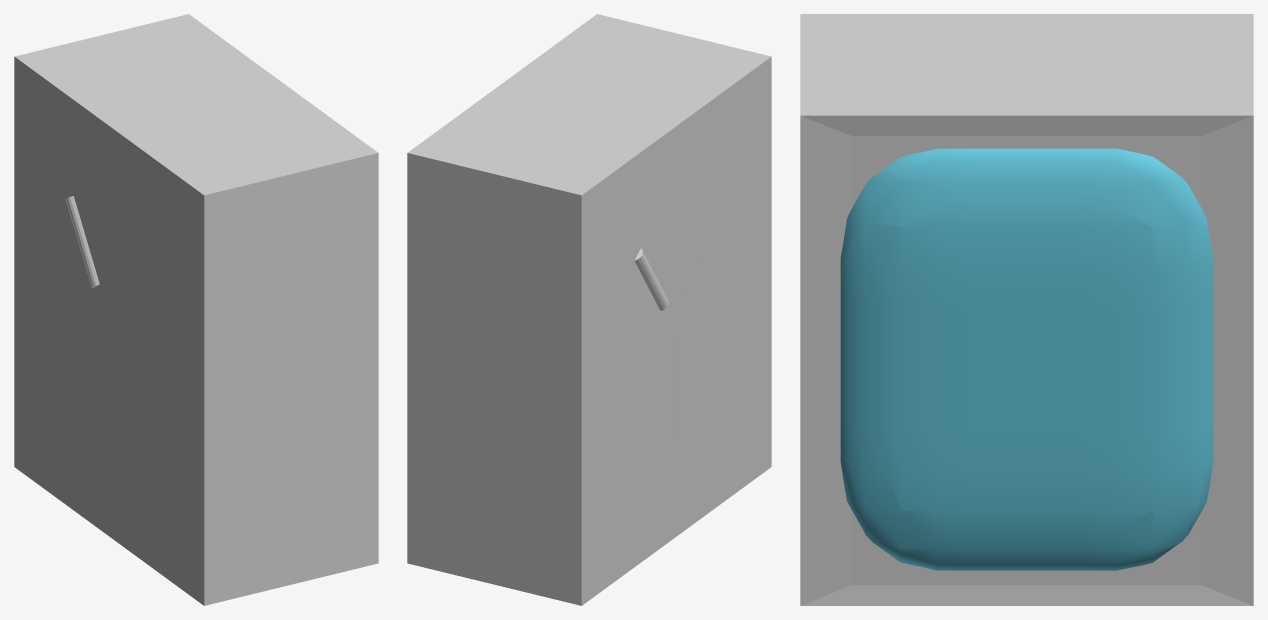
The model's file is fluxCapacitor.fbx.
3 views of the same model, side by side, from view 1: azimuth 30°, elevation 25°; view 2: azimuth 150°, elevation 25°; view 3: azimuth 270°, elevation 25° (orthographic). The views are drawn at different scales.
Visible parts, largest first — view 1: Cube, Cylinder.001; view 2: Cube, Cylinder.001; view 3: Mball, Cube.
Part boxes in pixels (x1=…): Cube: x1=14, y1=14, x2=378, y2=605; Cylinder.001: x1=65, y1=196, x2=99, y2=287; Cube: x1=407, y1=14, x2=771, y2=605; Cylinder.001: x1=634, y1=248, x2=668, y2=310; Mball: x1=840, y1=148, x2=1213, y2=570; Cube: x1=800, y1=14, x2=1253, y2=605.
Bounding box in the file's own units: 224 × 450 × 377.
